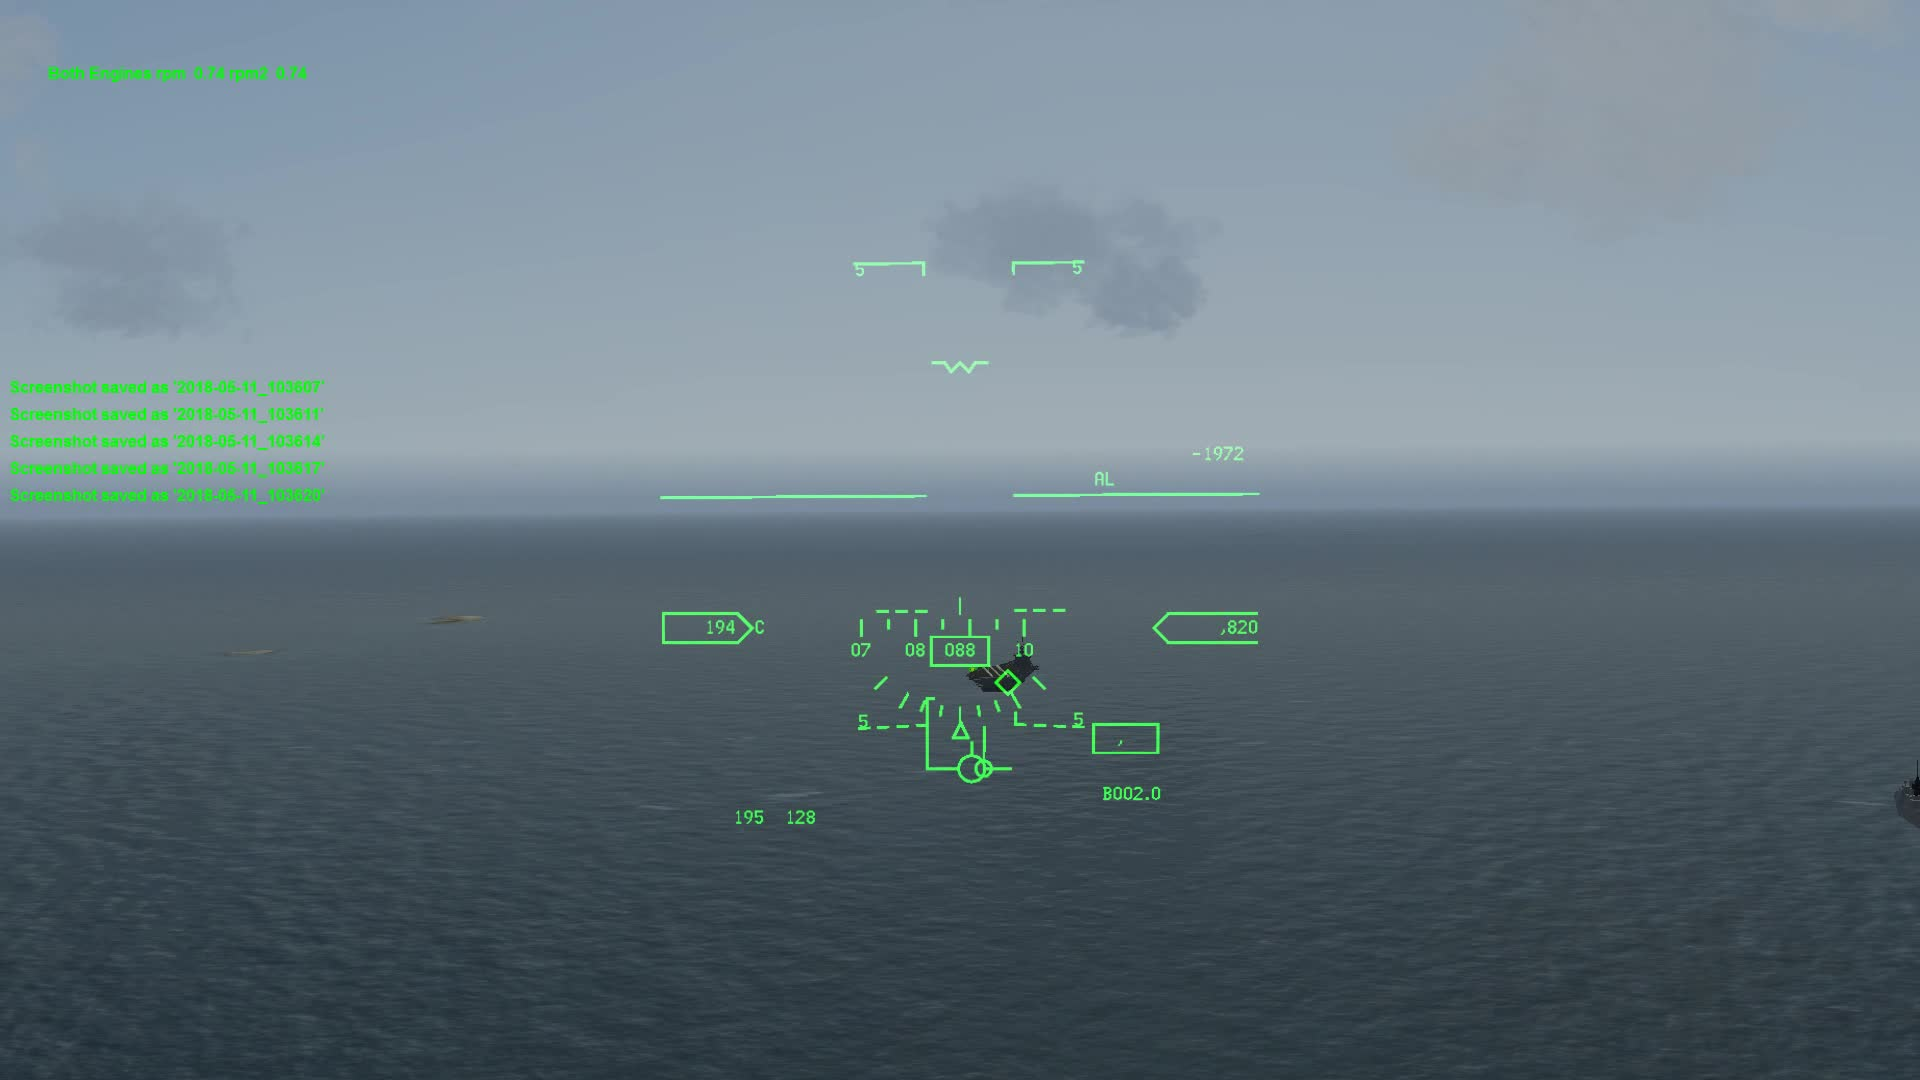speed vector: (932, 748, 1013, 789)
